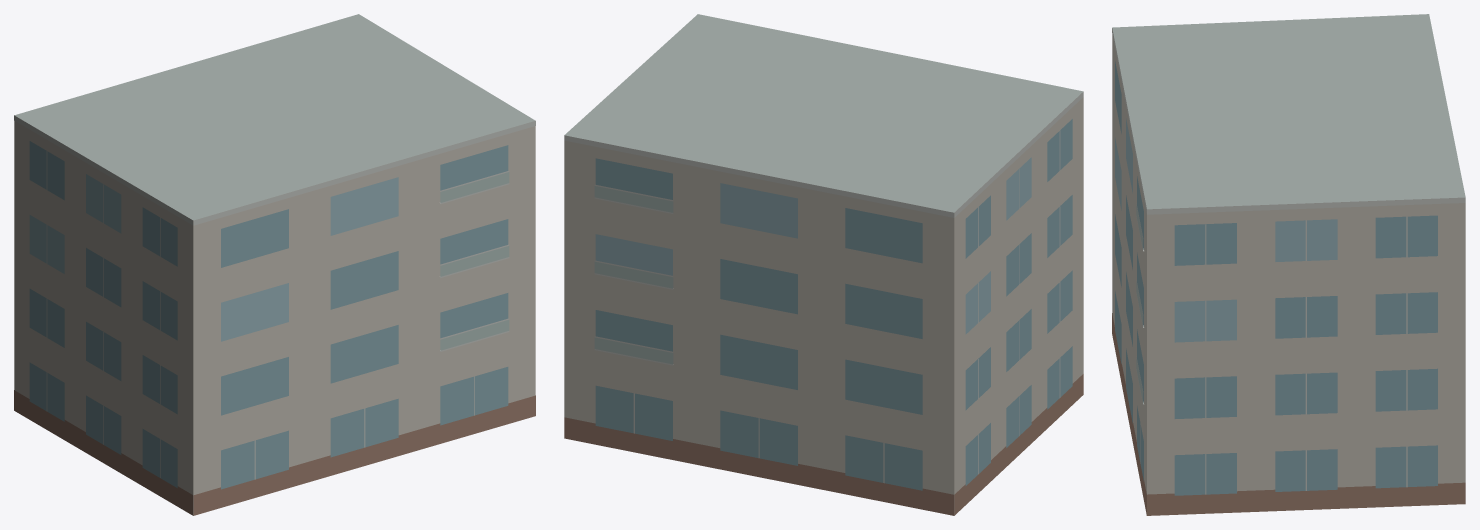
File: survey-upis-32750737.glb
3 views of the same model, side by side, from view 1: azimuth 30°, elevation 25°; view 2: azimuth 150°, elevation 25°; view 3: azimuth 270°, elevation 25° (orthographic). The views are drawn at different scales.
Visible parts, largest first — view 1: survey-upis-32750737.tmp; view 2: survey-upis-32750737.tmp; view 3: survey-upis-32750737.tmp.
Boxes of the visible parts, left/top/right/bottom form: survey-upis-32750737.tmp: left=14, top=14, right=535, bottom=515; survey-upis-32750737.tmp: left=564, top=14, right=1083, bottom=515; survey-upis-32750737.tmp: left=1112, top=14, right=1465, bottom=515.
Size of the model in its own units: 18.94 by 13.85 by 14.49.
